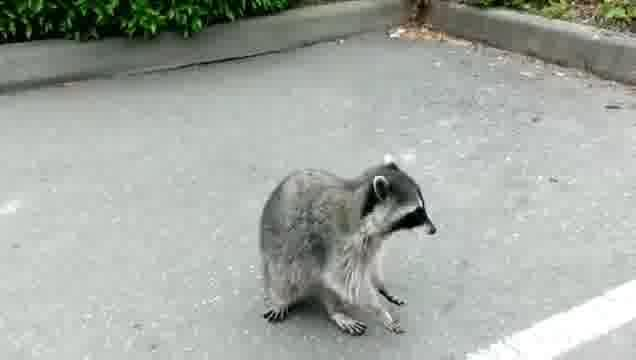raccoon: (253, 154, 439, 339)
